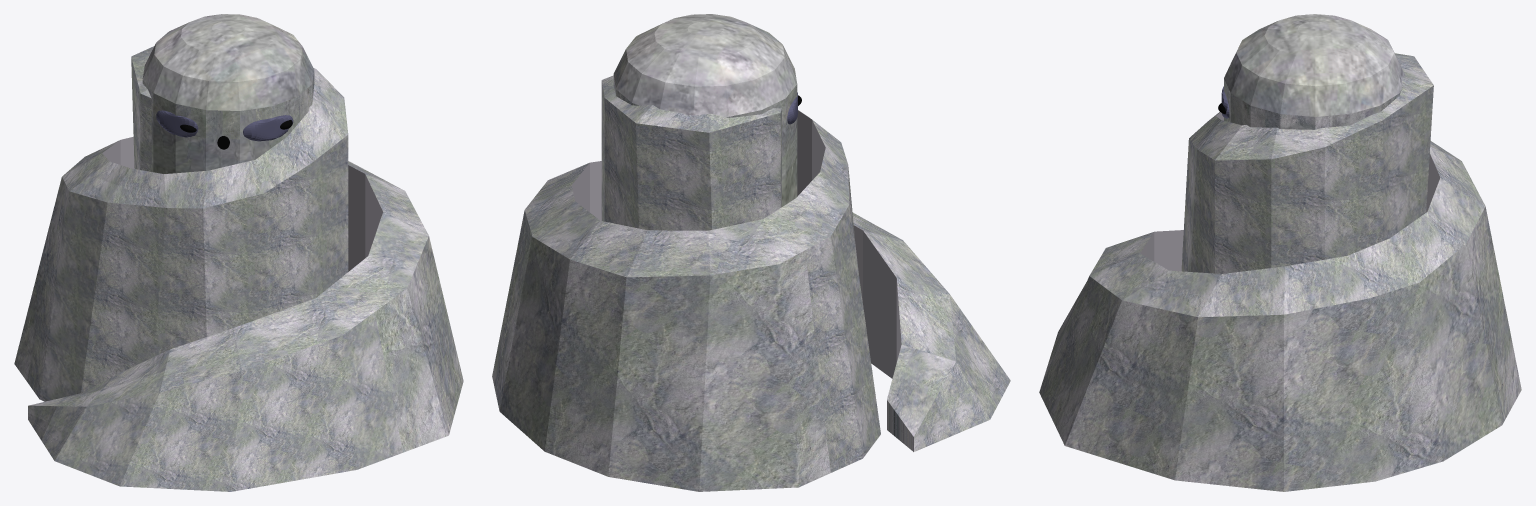
Rendered from stone_31.fbx.
3 renders of one model, left to right at view 1: azimuth 30°, elevation 25°; view 2: azimuth 150°, elevation 25°; view 3: azimuth 270°, elevation 25°, orthographic. The views are drawn at different scales.
Parts seen in each view (by area): view 1: Circle, Sphere.001, Sphere; view 2: Circle; view 3: Circle.
Part boxes in pixels (bbox=[...]): Circle: bbox=[14, 14, 463, 491]; Sphere.001: bbox=[243, 115, 293, 141]; Sphere: bbox=[156, 110, 198, 137]; Circle: bbox=[492, 14, 1010, 491]; Circle: bbox=[1039, 14, 1521, 491].
Size of the model in its own units: 948 by 761 by 912.
